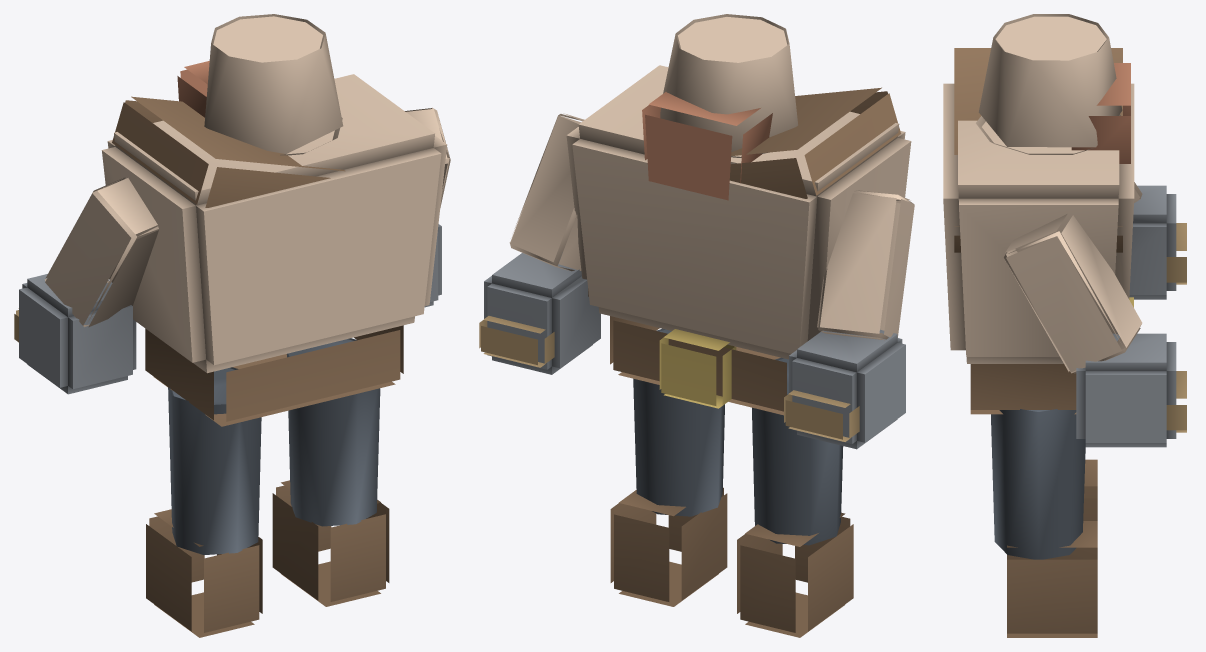
File: formula_giant_lod1.glb
The picture shows the model from 3 angles, left to right: view 1: azimuth 30°, elevation 25°; view 2: azimuth 150°, elevation 25°; view 3: azimuth 270°, elevation 25°; orthographic projection.
Parts seen in each view (by area): view 1: formula_giant.001; view 2: formula_giant.001; view 3: formula_giant.001.
Part boxes in pixels (x1,y1,x2,y2): formula_giant.001: (14,14,450,637); formula_giant.001: (479,14,914,637); formula_giant.001: (943,14,1186,637).
Bounding box in the file's own units: 1.4 × 1.97 × 0.7959.
